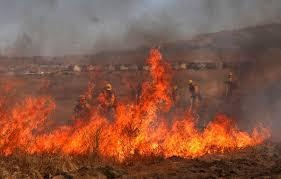fire: (9, 37, 260, 162)
